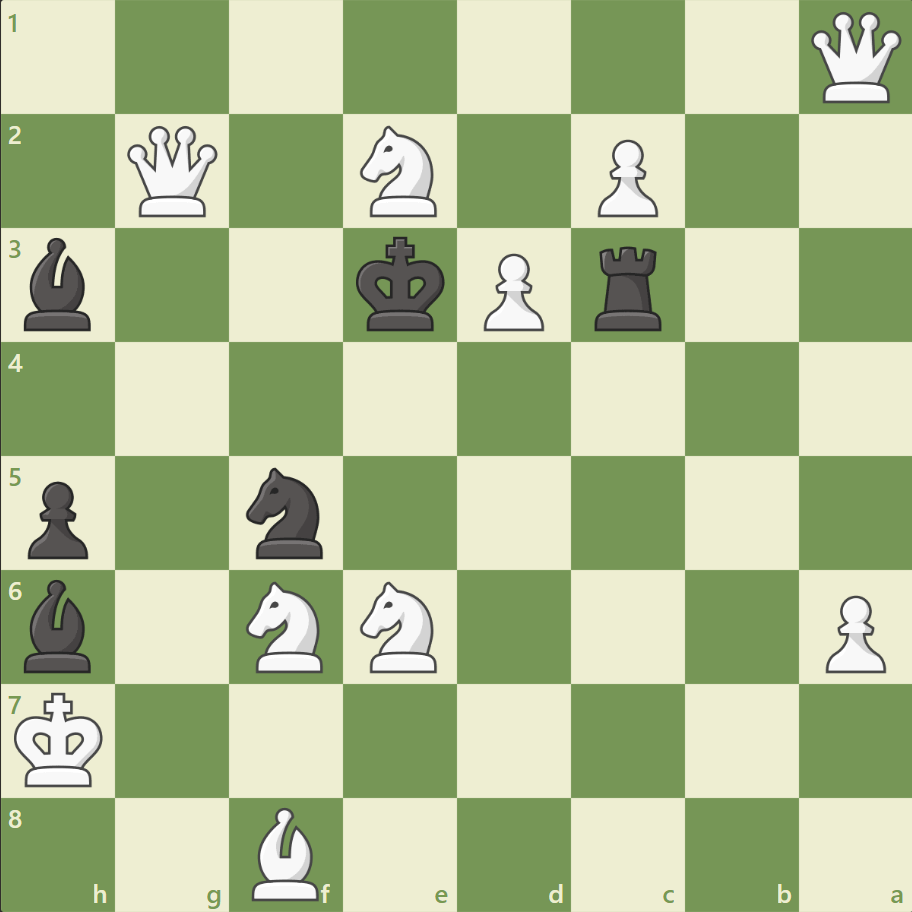B: (244, 801, 328, 904)
K: (11, 685, 111, 793)
N: (351, 575, 449, 677), (351, 121, 449, 223), (238, 575, 335, 677)
P: (474, 246, 549, 337), (815, 586, 889, 677), (588, 132, 662, 223)
Q: (124, 122, 223, 222), (805, 9, 904, 108)
b: (17, 233, 101, 336), (17, 574, 101, 676)
k: (351, 231, 451, 339)
n: (238, 461, 335, 564)
p: (20, 473, 95, 564)
r: (587, 239, 670, 336)
